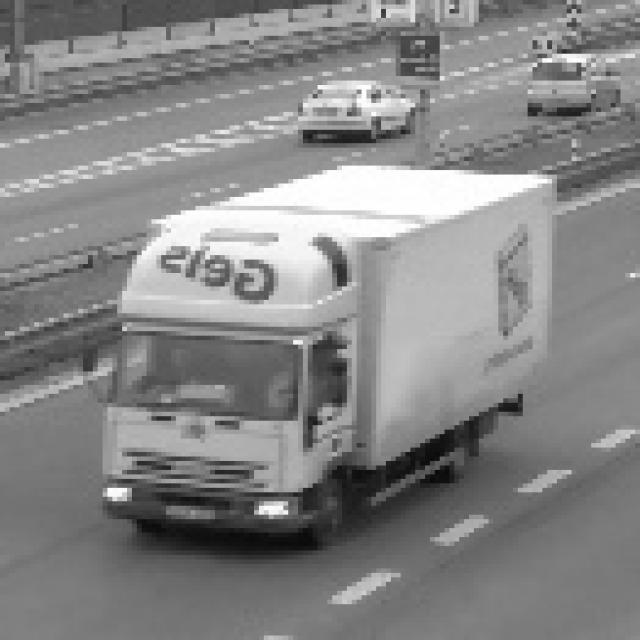truck: (83, 156, 552, 546)
